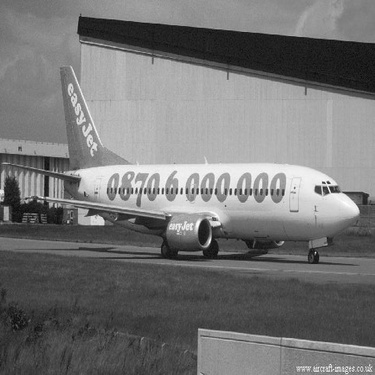airplane: (7, 48, 369, 277)
